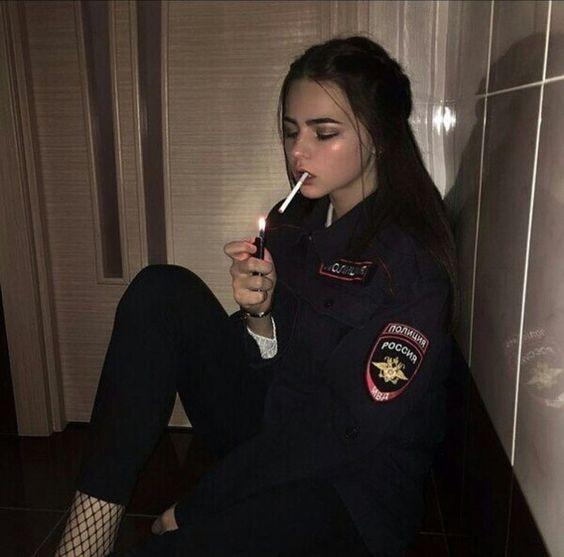cigarette: (278, 172, 308, 213)
